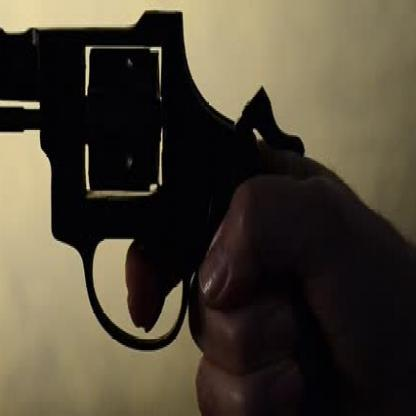gun: (0, 0, 314, 358)
